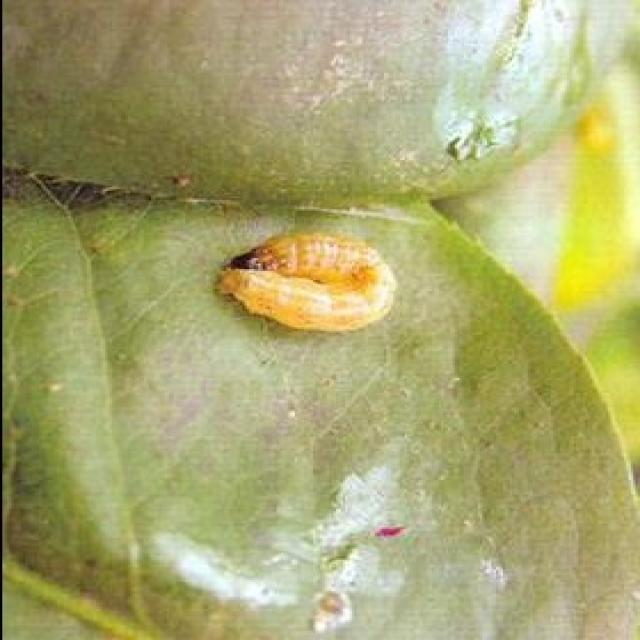peach borer: (216, 236, 399, 334)
